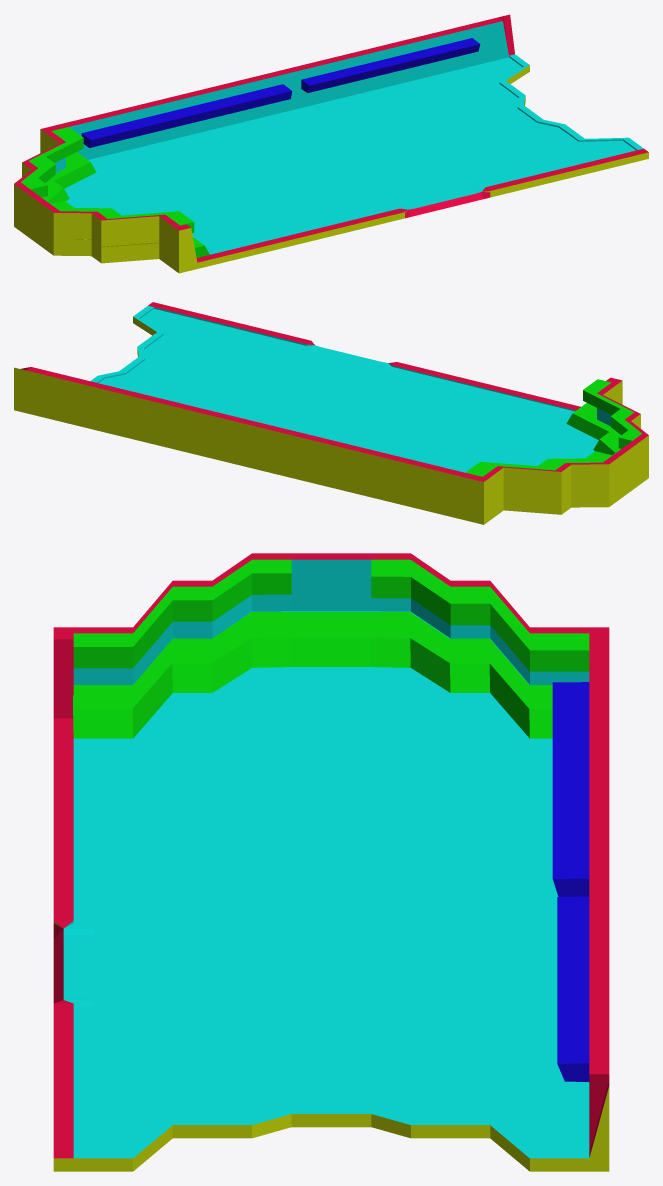
File: comedor.fbx
3 renders of one model, top to bottom at view 1: azimuth 30°, elevation 25°; view 2: azimuth 150°, elevation 25°; view 3: azimuth 270°, elevation 25°, orthographic. The views are drawn at different scales.
Visible parts, largest first — view 1: Cube.005; view 2: Cube.005; view 3: Cube.005.
Boxes of the visible parts, x1,y1,x2,y2 form: Cube.005: (14, 14, 648, 273); Cube.005: (14, 302, 648, 524); Cube.005: (53, 553, 609, 1171).
Size of the model in its own units: 22.69 by 10 by 1.7.
